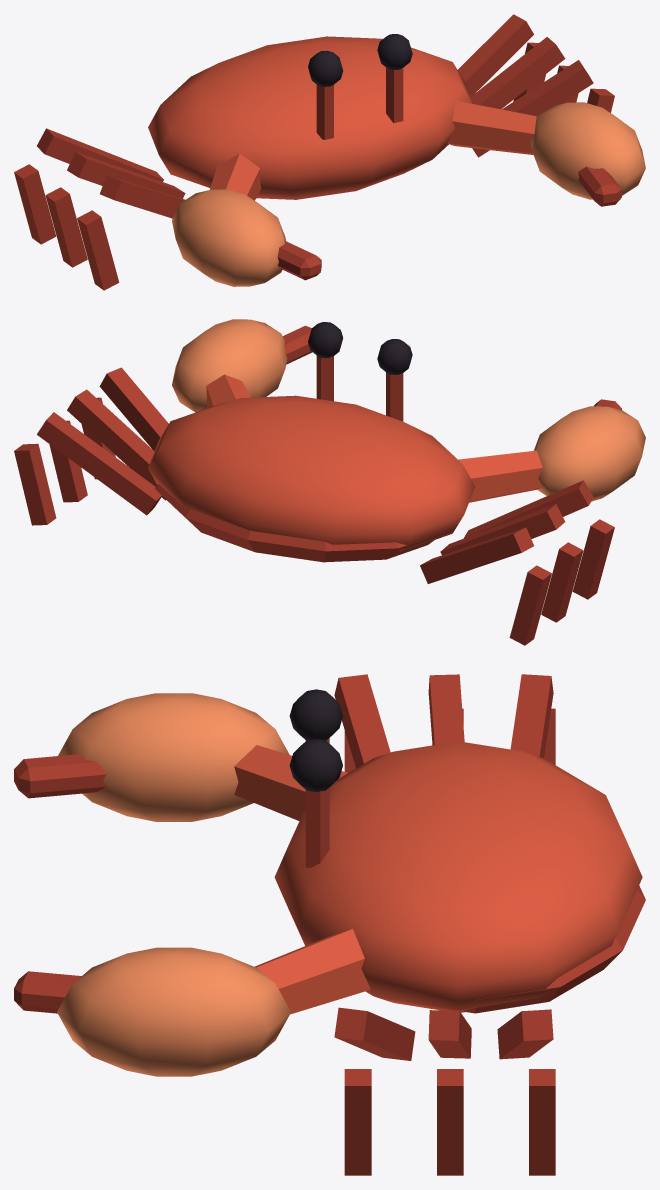
Rendered from critter_crab.glb.
3 renders of one model, top to bottom at view 1: azimuth 30°, elevation 25°; view 2: azimuth 150°, elevation 25°; view 3: azimuth 270°, elevation 25°, orthographic. The views are drawn at different scales.
Parts seen in each view (by area): view 1: critter_crab; view 2: critter_crab; view 3: critter_crab.
Part boxes in pixels (box(x1,y1,x2,y2)): critter_crab: box(14, 14, 645, 290); critter_crab: box(14, 319, 645, 645); critter_crab: box(14, 674, 645, 1175).
Size of the model in its own units: 0.5336 by 0.1869 by 0.3777.
